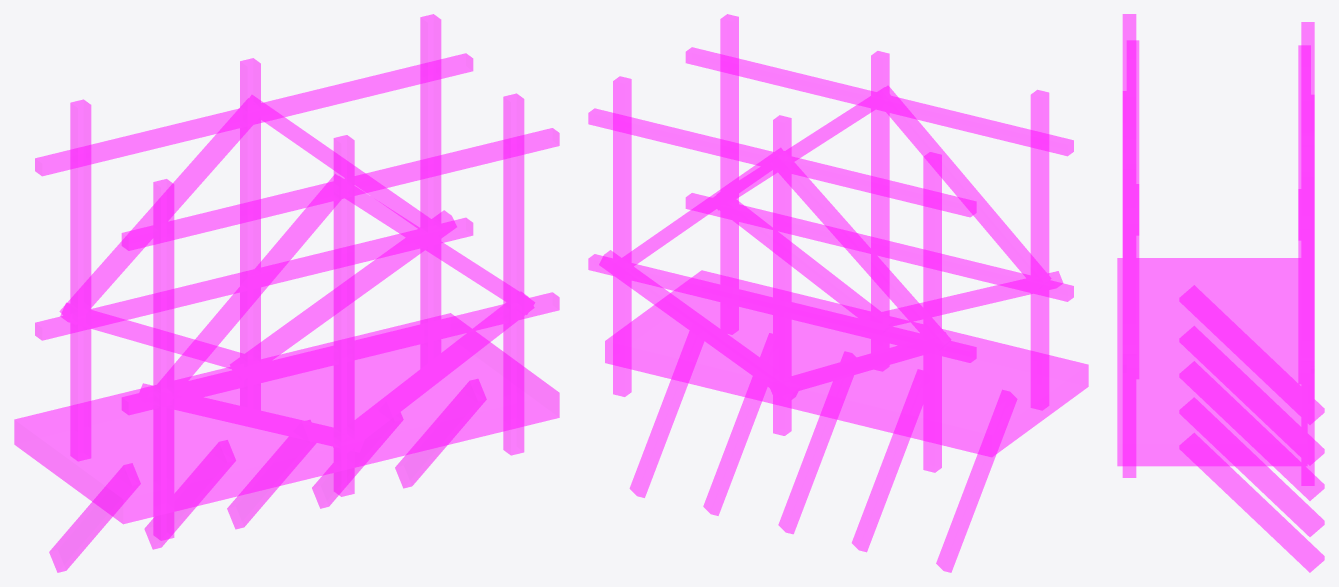
The model's file is Scaffolding_WallmountingLong.fbx.
The picture shows the model from 3 angles, left to right: view 1: azimuth 30°, elevation 25°; view 2: azimuth 150°, elevation 25°; view 3: azimuth 270°, elevation 25°; orthographic projection. The views are drawn at different scales.
Parts seen in each view (by area): view 1: CDTBoxCollider23, CDTBoxCollider22, CDTBoxCollider9, CDTBoxCollider18, CDTBoxCollider8, CDTBoxCollider5, CDTBoxCollider7, CDTBoxCollider20, CDTBoxCollider6, CDTBoxCollider21, CDTBoxCollider19, CDTBoxCollider10 (+12 smaller); view 2: CDTBoxCollider23, CDTBoxCollider9, CDTBoxCollider8, CDTBoxCollider22, CDTBoxCollider18, CDTBoxCollider21, CDTBoxCollider5, CDTBoxCollider20, CDTBoxCollider19, CDTBoxCollider7, CDTBoxCollider6, CDTBoxCollider17 (+12 smaller); view 3: CDTBoxCollider23, CDTBoxCollider7, CDTBoxCollider21, CDTBoxCollider2, CDTBoxCollider3, CDTBoxCollider4, CDTBoxCollider1, CDTBoxCollider, CDTBoxCollider16, CDTBoxCollider9, CDTBoxCollider22, CDTBoxCollider11 (+6 smaller).
Boxes of the visible parts, x1=… form: CDTBoxCollider23: x1=14, y1=313, x2=559, y2=524; CDTBoxCollider22: x1=35, y1=53, x2=473, y2=176; CDTBoxCollider9: x1=121, y1=128, x2=559, y2=250; CDTBoxCollider18: x1=35, y1=217, x2=473, y2=340; CDTBoxCollider8: x1=121, y1=292, x2=559, y2=415; CDTBoxCollider5: x1=153, y1=179, x2=174, y2=540; CDTBoxCollider7: x1=503, y1=93, x2=524, y2=455; CDTBoxCollider20: x1=70, y1=99, x2=91, y2=460; CDTBoxCollider6: x1=333, y1=135, x2=354, y2=496; CDTBoxCollider21: x1=420, y1=14, x2=441, y2=368; CDTBoxCollider19: x1=240, y1=58, x2=260, y2=409; CDTBoxCollider10: x1=151, y1=174, x2=351, y2=405; CDTBoxCollider23: x1=605, y1=270, x2=1088, y2=457; CDTBoxCollider9: x1=685, y1=47, x2=1073, y2=156; CDTBoxCollider8: x1=685, y1=193, x2=1073, y2=301; CDTBoxCollider22: x1=588, y1=108, x2=976, y2=217; CDTBoxCollider18: x1=588, y1=254, x2=976, y2=362; CDTBoxCollider21: x1=613, y1=76, x2=631, y2=396; CDTBoxCollider5: x1=1030, y1=90, x2=1049, y2=410; CDTBoxCollider20: x1=923, y1=152, x2=941, y2=472; CDTBoxCollider19: x1=773, y1=115, x2=791, y2=435; CDTBoxCollider7: x1=720, y1=14, x2=738, y2=334; CDTBoxCollider6: x1=871, y1=51, x2=889, y2=371; CDTBoxCollider17: x1=770, y1=151, x2=951, y2=351; CDTBoxCollider23: x1=1117, y1=258, x2=1307, y2=466; CDTBoxCollider7: x1=1122, y1=163, x2=1136, y2=477; CDTBoxCollider21: x1=1301, y1=171, x2=1314, y2=485; CDTBoxCollider2: x1=1179, y1=433, x2=1324, y2=572; CDTBoxCollider3: x1=1179, y1=397, x2=1324, y2=536; CDTBoxCollider4: x1=1179, y1=361, x2=1324, y2=500; CDTBoxCollider1: x1=1179, y1=326, x2=1324, y2=465; CDTBoxCollider: x1=1179, y1=285, x2=1324, y2=424; CDTBoxCollider16: x1=1301, y1=131, x2=1314, y2=365; CDTBoxCollider9: x1=1126, y1=40, x2=1139, y2=235; CDTBoxCollider22: x1=1298, y1=45, x2=1310, y2=240; CDTBoxCollider11: x1=1122, y1=127, x2=1135, y2=359.
Size of the model in its own units: 9.93 by 9.72 by 4.5.
